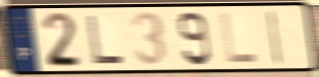2: (40, 11, 82, 69)
3: (129, 9, 169, 69)
9: (177, 11, 212, 67)
I: (266, 9, 284, 67)
L: (219, 11, 260, 66), (84, 14, 126, 66)
